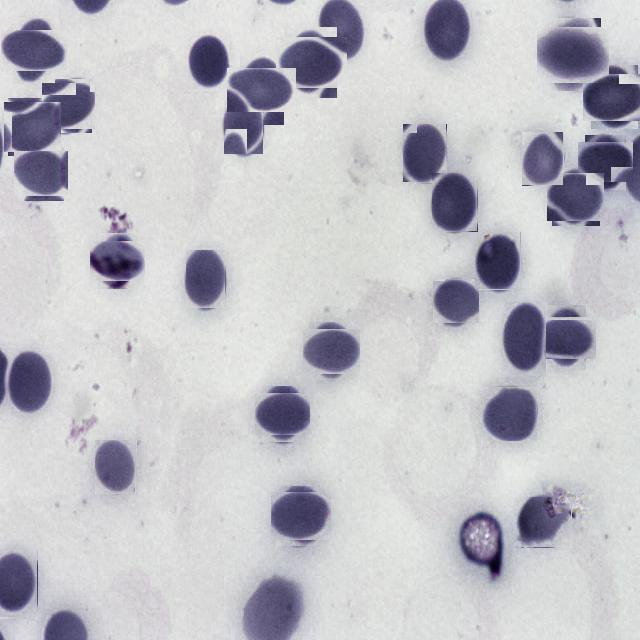red blood cell: (541, 22, 605, 86), (280, 32, 342, 94), (501, 302, 547, 377), (233, 61, 290, 118), (482, 386, 538, 442), (274, 488, 328, 544), (5, 100, 60, 154), (514, 497, 572, 548), (538, 310, 592, 364), (7, 24, 61, 78), (587, 70, 640, 125), (550, 170, 602, 223), (8, 351, 52, 413), (432, 173, 478, 232), (475, 232, 521, 290), (0, 548, 38, 618), (306, 325, 357, 377), (403, 124, 447, 183), (44, 81, 94, 131), (16, 149, 66, 199), (188, 34, 231, 91), (258, 389, 308, 438), (186, 250, 226, 309), (582, 138, 630, 186), (94, 237, 142, 285), (522, 132, 564, 186), (95, 440, 136, 495), (224, 100, 264, 155), (433, 278, 478, 324)
